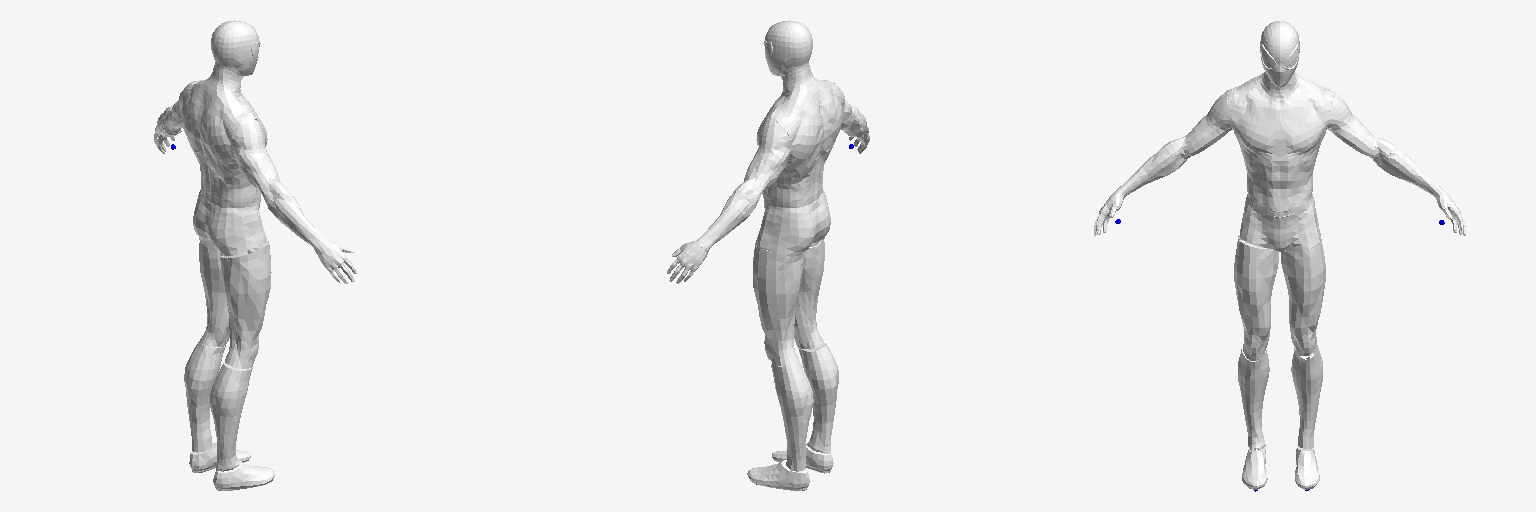
--- Facts derived from the render (not from the file) ---
Views: 3 orthographic renders of the robot side by side, from view 1: azimuth 30°, elevation 25°; view 2: azimuth 150°, elevation 25°; view 3: azimuth 270°, elevation 25°.
Robot: spiderman — 41 links, 40 joints (34 revolute, 6 fixed); root link base_link; default pose: all joints at 0.
Visible links, largest first — view 1: Thorax, RThigh, Pelvis, RShank, LShank, RHumerus, LThigh, Skull, RForearm, RFoot, RHand, LFoot (+1 smaller); view 2: Thorax, LThigh, Pelvis, LShank, RShank, LHumerus, RThigh, Skull, LForearm, LFoot, LHand, RFoot (+1 smaller); view 3: Thorax, RThigh, LThigh, Pelvis, LShank, RShank, Skull, RHumerus, LHumerus, RForearm, LForearm, RHand (+1 smaller).
Link boxes in pixels (bbox=[...]): Thorax: bbox=[180, 65, 267, 207]; RThigh: bbox=[220, 241, 271, 368]; Pelvis: bbox=[193, 190, 266, 256]; RShank: bbox=[210, 363, 252, 471]; LShank: bbox=[184, 341, 225, 452]; RHumerus: bbox=[232, 119, 288, 206]; LThigh: bbox=[199, 237, 229, 346]; Skull: bbox=[211, 20, 260, 76]; RForearm: bbox=[268, 190, 328, 255]; RFoot: bbox=[213, 461, 264, 490]; RHand: bbox=[318, 241, 357, 283]; LFoot: bbox=[189, 443, 239, 472]; Thorax: bbox=[756, 65, 843, 207]; LThigh: bbox=[753, 246, 803, 365]; Pelvis: bbox=[755, 190, 830, 256]; LShank: bbox=[771, 360, 813, 471]; RShank: bbox=[798, 343, 838, 453]; LHumerus: bbox=[735, 120, 791, 202]; RThigh: bbox=[794, 237, 824, 348]; Skull: bbox=[763, 20, 812, 75]; LForearm: bbox=[695, 190, 756, 252]; LFoot: bbox=[758, 460, 809, 490]; LHand: bbox=[667, 241, 707, 283]; RFoot: bbox=[783, 445, 833, 473]; Thorax: bbox=[1227, 72, 1334, 216]; RThigh: bbox=[1234, 235, 1278, 360]; LThigh: bbox=[1281, 239, 1325, 358]; Pelvis: bbox=[1240, 194, 1320, 251]; LShank: bbox=[1291, 348, 1322, 448]; RShank: bbox=[1238, 347, 1269, 450]; Skull: bbox=[1260, 21, 1299, 87]; RHumerus: bbox=[1165, 90, 1231, 167]; LHumerus: bbox=[1327, 93, 1394, 165]; RForearm: bbox=[1114, 145, 1178, 199]; LForearm: bbox=[1378, 145, 1445, 200]; RHand: bbox=[1094, 193, 1122, 235].
Bounding box of the posed robot: 0.3047 × 1.36 × 1.84 m (x, y, z).
Meshes: 17 distinct files referenced, 17 mesh visuals loaded (17 binary STL).

URDF robot description (spiderman):
<?xml version="1.0"?>
<!-- meshes from http://tf3dm.com/ -->
<robot name="spiderman">
  <material name="Blue"> <!-- for spheres -->
    <color rgba="0 0 1 0.5"/>
  </material>
  <material name="White"> <!-- for bones -->
    <color rgba="1 1 1 1"/>
  </material>
  <material name="Green"> <!-- for bones -->
    <color rgba="0 1 0.1 0.2"/>
  </material>

  <link name="base_link"/>
  <joint name="base_link_J" type="fixed">
      <parent link="base_link"/>
      <child link="Pelvis"/>
      <origin rpy="0 0 1.57079632" xyz="0 0 0"/>
   </joint>

  <link name="virtualPelvis"/> <!-- for Blender Armature export -->
  <joint name="virtualPelvis" type="fixed">
      <parent link="base_link"/>
      <child link="virtualPelvis"/>
      <origin rpy="0 0 0" xyz="0 0 0"/>
  </joint>

   <link name="Pelvis">
      <inertial>
         <origin rpy="0 0 0" xyz="0 0 0"/>
         <mass value="8.4552"/>
         <inertia ixx="0" ixy="0" ixz="0" iyy="0" iyz="0" izz="0"/>
      </inertial>
      <visual>
         <origin xyz="0 0 0" rpy="0 0 0"/>
         <geometry>
            <mesh filename="package://hpp-rbprm-corba/meshes/spiderman/spiderman-pelvis.stl"/>
         </geometry>
         <material name="White"/>
      </visual>
      <collision>
         <origin xyz="0 0 0" rpy="0 0 0"/>
         <geometry>
            <mesh filename="package://hpp-rbprm-corba/meshes/spiderman/spiderman-pelvis.stl"/>
         </geometry>
      </collision>
   </link>

 <!--<joint name="pelvis_rfoot_rom_joint" type="fixed">
      <parent link="Pelvis"/>
      <child link="pelvis_rfoot_rom"/>
      <origin rpy="0 0 0" xyz="0 0 0"/>
   </joint>
  <link name="pelvis_rfoot_rom">
      <visual>
         <origin xyz="0 0 0" rpy="0 0 0"/>
         <geometry>
            <mesh filename="package://hpp-rbprm-corba/meshes/spiderman/rfoot_rom.stl"/>
         </geometry>
         <material name="Green"/>
      </visual>
   </link>-->

  <!--<joint name="pelvis_lfoot_rom_joint" type="fixed">
      <parent link="Pelvis"/>
      <child link="pelvis_lfoot_rom"/>
      <origin rpy="0 0 0" xyz="0 0 0"/>
   </joint>
  <link name="pelvis_lfoot_rom">
      <visual>
         <origin xyz="0 0 0" rpy="0 0 0"/>
         <geometry>
            <mesh filename="package://hpp-rbprm-corba/meshes/spiderman/lfoot_rom.stl"/>
         </geometry>
         <material name="Green"/>
      </visual>
   </link>-->

   <link name="Thorax_rx"/>
   <link name="Thorax_ry"/>
   <link name="Thorax">
      <inertial>
         <origin rpy="0 0 0" xyz="0 0 0"/>
         <mass value="19.8372"/>
         <inertia ixx="-0.16485" ixy="0.25777" ixz="0.0015499" iyy="0.20309" iyz="-0.0061998" izz="-0.18263"/>
      </inertial>
      <visual>
         <origin xyz="0 0 0" rpy="0 0 0"/>
         <geometry>
            <mesh filename="package://hpp-rbprm-corba/meshes/spiderman/spiderman-thorax.stl"/>
         </geometry>
         <material name="White"/>
      </visual>
      <collision>
         <origin xyz="0 0 0" rpy="0 0 0"/>
         <geometry>
            <mesh filename="package://hpp-rbprm-corba/meshes/spiderman/spiderman-thorax.stl"/>
         </geometry>
      </collision>
   </link>

  <!--<joint name="thorax_rhand_rom_joint" type="fixed">
      <parent link="Thorax"/>
      <child link="thorax_rhand_rom"/>
      <origin rpy="0 0 0" xyz="0 0 0"/>
   </joint>
  <link name="thorax_rhand_rom">
      <visual>
         <origin xyz="0 0 0" rpy="0 0 0"/>
         <geometry>
            <mesh filename="package://hpp-rbprm-corba/meshes/spiderman/rhand_rom.stl"/>
         </geometry>
         <material name="Green"/>
      </visual>
   </link>-->

  <!--<joint name="thorax_lhand_rom_joint" type="fixed">
      <parent link="Thorax"/>
      <child link="thorax_lhand_rom"/>
      <origin rpy="0 0 0" xyz="0 0 0"/>
   </joint>
  <link name="thorax_lhand_rom">
      <visual>
         <origin xyz="0 0 0" rpy="0 0 0"/>
         <geometry>
            <mesh filename="package://hpp-rbprm-corba/meshes/spiderman/lhand_rom.stl"/>
         </geometry>
         <material name="Green"/>
      </visual>
   </link>-->

   <link name="Skull_rx"/>
   <link name="Skull_ry"/>
   <link name="Skull">
      <inertial>
         <origin rpy="0 0 0" xyz="0 0 0"/>
         <mass value="4.2276"/>
         <inertia ixx="0.0071027" ixy="-0.00059867" ixz="-2.9564e-05" iyy="0.0046194" iyz="6.6519e-05" izz="0.0080488"/>
      </inertial>
      <visual>
         <origin xyz="0 0 0" rpy="0 0 0"/>
         <geometry>
            <mesh filename="package://hpp-rbprm-corba/meshes/spiderman/spiderman-skull.stl"/>
         </geometry>
         <material name="White"/>
      </visual>
      <collision>
         <origin xyz="0 0 0" rpy="0 0 0"/>
         <geometry>
            <mesh filename="package://hpp-rbprm-corba/meshes/spiderman/spiderman-skull.stl"/>
         </geometry>
      </collision>
   </link>
   <link name="RThigh_rx"/>
   <link name="RThigh_ry"/>
   <link name="RThigh">
      <inertial>
         <origin rpy="0 0 0" xyz="0 0 0"/>
         <mass value="7.3797"/>
         <inertia ixx="0.11501" ixy="0.0067008" ixz="-0.000547" iyy="0.030769" iyz="-0.0067008" izz="0.12308"/>
      </inertial>
      <visual>
         <origin xyz="0 0 0" rpy="0 0 0"/>
         <geometry>
            <mesh filename="package://hpp-rbprm-corba/meshes/spiderman/spiderman-RThigh.stl"/>
         </geometry>
         <material name="White"/>
      </visual>
      <collision>
         <origin xyz="0 0 0" rpy="0 0 0"/>
         <geometry>
            <mesh filename="package://hpp-rbprm-corba/meshes/spiderman/spiderman-RThigh.stl"/>
         </geometry>
      </collision>
   </link>
   <link name="RShank">
      <inertial>
         <origin rpy="0 0 0" xyz="0 0 0"/>
         <mass value="2.8801"/>
         <inertia ixx="0.042617" ixy="-0.00086974" ixz="-0.00021743" iyy="0.0054359" iyz="0.001359" izz="0.042617"/>
      </inertial>
      <visual>
         <origin xyz="0 0 0" rpy="0 0 0"/>
         <geometry>
            <mesh filename="package://hpp-rbprm-corba/meshes/spiderman/spiderman-RShank.stl"/>
         </geometry>
         <material name="White"/>
      </visual>
      <collision>
         <origin xyz="0 0 0" rpy="0 0 0"/>
         <geometry>
            <mesh filename="package://hpp-rbprm-corba/meshes/spiderman/spiderman-RShank.stl"/>
         </geometry>
      </collision>
   </link>
   <link name="RFoot_rx"/>
   <link name="RFoot">
      <inertial>
         <origin rpy="0 0 0" xyz="0 0 0"/>
         <mass value="0.72029"/>
         <inertia ixx="0.0035454" ixy="0.00043767" ixz="0" iyy="0.00074844" iyz="-0.00016575" izz="0.0033563"/>
      </inertial>
      <visual>
         <origin xyz="0 0 0" rpy="0 0 0"/>
         <geometry>
            <mesh filename="package://hpp-rbprm-corba/meshes/spiderman/spiderman-RFoot.stl"/>
         </geometry>
         <material name="White"/>
      </visual>
      <collision>
         <origin xyz="0 0 0" rpy="0 0 0"/>
         <geometry>
            <mesh filename="package://hpp-rbprm-corba/meshes/spiderman/spiderman-RFoot.stl"/>
         </geometry>
      </collision>
   </link>
   <link name="RFootToe">
      <inertial>
         <origin rpy="0 0 0" xyz="0 0 0"/>
         <mass value="0.72029"/>
         <inertia ixx="0.0035454" ixy="0.00043767" ixz="0" iyy="0.00074844" iyz="-0.00016575" izz="0.0033563"/>
      </inertial>
      <visual>
         <origin xyz="0 0 0" rpy="0 0 0"/>
         <geometry>
            <mesh filename="package://hpp-rbprm-corba/meshes/spiderman/spiderman-RFootToe.stl"/>
         </geometry>
         <material name="White"/>
      </visual>
      <collision>
         <origin xyz="0 0 0" rpy="0 0 0"/>
         <geometry>
            <mesh filename="package://hpp-rbprm-corba/meshes/spiderman/spiderman-RFootToe.stl"/>
         </geometry>
      </collision>
   </link>
  <link name="SpidermanRFootSphere">
      <visual>
         <origin xyz="0 0 0" rpy="0 0 0"/>
         <geometry>
            <sphere radius="0.01"/>
         </geometry>
         <material name="Blue"/>
      </visual>
   </link>
   <link name="LThigh_rx"/>
   <link name="LThigh_ry"/>
   <link name="LThigh">
      <inertial>
         <origin rpy="0 0 0" xyz="0 0 0"/>
         <mass value="7.3797"/>
         <inertia ixx="0.11501" ixy="0.0067008" ixz="-0.000547" iyy="0.030769" iyz="-0.0067008" izz="0.12308"/>
      </inertial>
      <visual>
         <origin xyz="0 0 0" rpy="0 0 0"/>
         <geometry>
            <mesh filename="package://hpp-rbprm-corba/meshes/spiderman/spiderman-LThigh.stl"/>
         </geometry>
         <material name="White"/>
      </visual>
      <collision>
         <origin xyz="0 0 0" rpy="0 0 0"/>
         <geometry>
            <mesh filename="package://hpp-rbprm-corba/meshes/spiderman/spiderman-LThigh.stl"/>
         </geometry>
      </collision>
   </link>
   <link name="LShank">
      <inertial>
         <origin rpy="0 0 0" xyz="0 0 0"/>
         <mass value="2.8801"/>
         <inertia ixx="0.042617" ixy="-0.00086974" ixz="-0.00021743" iyy="0.0054359" iyz="0.001359" izz="0.042617"/>
      </inertial>
      <visual>
         <origin xyz="0 0 0" rpy="0 0 0"/>
         <geometry>
            <mesh filename="package://hpp-rbprm-corba/meshes/spiderman/spiderman-LShank.stl"/>
         </geometry>
         <material name="White"/>
      </visual>
      <collision>
         <origin xyz="0 0 0" rpy="0 0 0"/>
         <geometry>
            <mesh filename="package://hpp-rbprm-corba/meshes/spiderman/spiderman-LShank.stl"/>
         </geometry>
      </collision>
   </link>
   <link name="LFoot_rx"/>
   <link name="LFoot">
      <inertial>
         <origin rpy="0 0 0" xyz="0 0 0"/>
         <mass value="0.72029"/>
         <inertia ixx="0.0035454" ixy="0.00043767" ixz="0" iyy="0.00074844" iyz="-0.00016575" izz="0.0033563"/>
      </inertial>
      <visual>
         <origin xyz="0 0 0" rpy="0 0 0"/>
         <geometry>
            <mesh filename="package://hpp-rbprm-corba/meshes/spiderman/spiderman-LFoot.stl"/>
         </geometry>
         <material name="White"/>
      </visual>
      <collision>
         <origin xyz="0 0 0" rpy="0 0 0"/>
         <geometry>
            <mesh filename="package://hpp-rbprm-corba/meshes/spiderman/spiderman-LFoot.stl"/>
         </geometry>
      </collision>
   </link>
   <link name="LFootToe">
      <inertial>
         <origin rpy="0 0 0" xyz="0 0 0"/>
         <mass value="0.72029"/>
         <inertia ixx="0.0035454" ixy="0.00043767" ixz="0" iyy="0.00074844" iyz="-0.00016575" izz="0.0033563"/>
      </inertial>
      <visual>
         <origin xyz="0 0 0" rpy="0 0 0"/>
         <geometry>
            <mesh filename="package://hpp-rbprm-corba/meshes/spiderman/spiderman-LFootToe.stl"/>
         </geometry>
         <material name="White"/>
      </visual>
      <collision>
         <origin xyz="0 0 0" rpy="0 0 0"/>
         <geometry>
            <mesh filename="package://hpp-rbprm-corba/meshes/spiderman/spiderman-LFootToe.stl"/>
         </geometry>
      </collision>
   </link>
  <link name="SpidermanLFootSphere">
      <visual>
         <origin xyz="0 0 0" rpy="0 0 0"/>
         <geometry>
            <sphere radius="0.01"/>
         </geometry>
         <material name="Blue"/>
      </visual>
   </link>
   <link name="RHumerus_rx"/>
   <link name="RHumerus_ry"/>
   <link name="RHumerus">
      <inertial>
         <origin rpy="0 0 0" xyz="0 0 0"/>
         <mass value="1.4399"/>
         <inertia ixx="-0.022156" ixy="0.00051827" ixz="0.00035991" iyy="0.0028217" iyz="5.7586e-05" izz="-0.021249"/>
      </inertial>
      <visual>
         <origin xyz="0 0 0" rpy="0 0 0"/>
         <geometry>
            <mesh filename="package://hpp-rbprm-corba/meshes/spiderman/spiderman-RHumerus.stl"/>
         </geometry>
         <material name="White"/>
      </visual>
      <collision>
         <origin xyz="0 0 0" rpy="0 0 0"/>
         <geometry>
            <mesh filename="package://hpp-rbprm-corba/meshes/spiderman/spiderman-RHumerus.stl"/>
         </geometry>
      </collision>
   </link>
   <link name="RForearm_rx"/>
   <link name="RForearm">
      <inertial>
         <origin rpy="0 0 0" xyz="0 0 0"/>
         <mass value="1.02"/>
         <inertia ixx="-0.0082187" ixy="5.6551e-05" ixz="2.5134e-05" iyy="0.0007603" iyz="-0.00040214" izz="-0.0085643"/>
      </inertial>
      <visual>
         <origin xyz="0 0 0" rpy="0 0 0"/>
         <geometry>
            <mesh filename="package://hpp-rbprm-corba/meshes/spiderman/spiderman-RForearm.stl"/>
         </geometry>
         <material name="White"/>
      </visual>
      <collision>
         <origin xyz="0 0 0" rpy="0 0 0"/>
         <geometry>
            <mesh filename="package://hpp-rbprm-corba/meshes/spiderman/spiderman-RForearm.stl"/>
         </geometry>
      </collision>
   </link>
   <link name="RHand_rx"/>
   <link name="RHand">
      <inertial>
         <origin rpy="0 0 0" xyz="0 0 0"/>
         <mass value="0.36011"/>
         <inertia ixx="0.0036215" ixy="0.00058753" ixz="0.00027313" iyy="0.0017529" iyz="-0.00048556" izz="0.0029113"/>
      </inertial>
      <visual>
         <origin xyz="0 0 0" rpy="0 0 0"/>
         <geometry>
            <mesh filename="package://hpp-rbprm-corba/meshes/spiderman/spiderman-RHand.stl"/>
         </geometry>
         <material name="White"/>
      </visual>
      <collision>
         <origin xyz="0 0 0" rpy="0 0 0"/>
         <geometry>
            <mesh filename="package://hpp-rbprm-corba/meshes/spiderman/spiderman-RHand.stl"/>
         </geometry>
      </collision>
   </link>
  <link name="SpidermanRHandSphere">
      <visual>
         <origin xyz="0 0 0" rpy="0 0 0"/>
         <geometry>
            <sphere radius = "0.01"/>
         </geometry>
         <material name="Blue"/>
      </visual>
   </link>

   <link name="LHumerus_rx"/>
   <link name="LHumerus_ry"/>
   <link name="LHumerus">
      <inertial>
         <origin rpy="0 0 0" xyz="0 0 0"/>
         <mass value="1.4399"/>
         <inertia ixx="-0.022156" ixy="0.00051827" ixz="0.00035991" iyy="0.0028217" iyz="5.7586e-05" izz="-0.021249"/>
      </inertial>
      <visual>
         <origin xyz="0 0 0" rpy="0 0 0"/>
         <geometry>
            <mesh filename="package://hpp-rbprm-corba/meshes/spiderman/spiderman-LHumerus.stl"/>
         </geometry>
         <material name="White"/>
      </visual>
      <collision>
         <origin xyz="0 0 0" rpy="0 0 0"/>
         <geometry>
            <mesh filename="package://hpp-rbprm-corba/meshes/spiderman/spiderman-LHumerus.stl"/>
         </geometry>
      </collision>
   </link>
   <link name="LForearm_rx"/>
   <link name="LForearm">
      <inertial>
         <origin rpy="0 0 0" xyz="0 -0.11352 0"/>
         <mass value="1.02"/>
         <inertia ixx="-0.0082187" ixy="5.6551e-05" ixz="2.5134e-05" iyy="0.0007603" iyz="-0.00040214" izz="-0.0085643"/>
      </inertial>
      <visual>
         <origin xyz="0 0 0" rpy="0 0 0"/>
         <geometry>
            <mesh filename="package://hpp-rbprm-corba/meshes/spiderman/spiderman-LForearm.stl"/>
         </geometry>
         <material name="White"/>
      </visual>
      <collision>
         <origin xyz="0 0 0" rpy="0 0 0"/>
         <geometry>
            <mesh filename="package://hpp-rbprm-corba/meshes/spiderman/spiderman-LForearm.stl"/>
         </geometry>
      </collision>
   </link>
   <link name="LHand_rx"/>
   <link name="LHand">
      <inertial>
         <origin rpy="0 0 0" xyz="0 0 0"/>
         <mass value="0.36011"/>
         <inertia ixx="0.0036215" ixy="0.00058753" ixz="0.00027313" iyy="0.0017529" iyz="-0.00048556" izz="0.0029113"/>
      </inertial>
      <visual>
         <origin xyz="0 0 0" rpy="0 0 0"/>
         <geometry>
            <mesh filename="package://hpp-rbprm-corba/meshes/spiderman/spiderman-LHand.stl"/>
         </geometry>
         <material name="White"/>
      </visual>
      <collision>
         <origin xyz="0 0 0" rpy="0 0 0"/>
         <geometry>
            <mesh filename="package://hpp-rbprm-corba/meshes/spiderman/spiderman-LHand.stl"/>
         </geometry>
      </collision>
   </link>
  <link name="SpidermanLHandSphere">
      <visual>
         <origin xyz="0 0 0" rpy="0 0 0"/>
         <geometry>
            <sphere radius="0.01"/>
         </geometry>
         <material name="Blue"/>
      </visual>
   </link>

  <joint name="A_Thorax_rx" type="revolute"> <!-- A_ added for order while parsing with ROS -->
      <parent link="Pelvis"/>
      <child link="Thorax_rx"/>
      <origin rpy="0 0 0" xyz="0.0006 -0.0373 0.0788"/>
      <axis xyz="1 0 0"/>
      <limit effort="0" lower="-0.8" upper="0.8" velocity="1.0"/>
   </joint>
   <joint name="Thorax_ry" type="revolute">
      <parent link="Thorax_rx"/>
      <child link="Thorax_ry"/>
      <origin rpy="0 0 0" xyz="0 0 0"/>
      <axis xyz="0 1 0"/>
      <limit effort="0" lower="-1" upper="1" velocity="1.0"/>
   </joint>
   <joint name="Thorax_rz" type="revolute">
      <parent link="Thorax_ry"/>
      <child link="Thorax"/>
      <origin rpy="0 0 0" xyz="0 0 0"/>
      <axis xyz="0 0 1"/>
      <limit effort="0" lower="-1.5" upper="1.5" velocity="1.0"/>
   </joint>
   <joint name="A_Skull_rx" type="revolute"> <!-- A_ added for order while parsing with ROS -->
      <parent link="Thorax"/>
      <child link="Skull_rx"/>
      <origin rpy="0 0 0" xyz="-0.0006 0.0160 0.5204"/>
      <axis xyz="1 0 0"/>
      <limit effort="0" lower="-1.1" upper="0.6" velocity="1.0"/>
   </joint>
   <joint name="Skull_ry" type="revolute">
      <parent link="Skull_rx"/>
      <child link="Skull_ry"/>
      <origin rpy="0 0 0" xyz="0 0 0"/>
      <axis xyz="0 1 0"/>
      <limit effort="0" lower="-0.3" upper="0.3" velocity="1.0"/>
   </joint>
   <joint name="Skull_rz" type="revolute">
      <parent link="Skull_ry"/>
      <child link="Skull"/>
      <origin rpy="0 0 0" xyz="0 0 0"/>
      <axis xyz="0 0 1"/>
      <limit effort="0" lower="-1.4" upper="1." velocity="1.0"/>
   </joint>
   <joint name="RThigh_rx" type="revolute">
      <parent link="Pelvis"/>
      <child link="RThigh_rx"/>
      <origin rpy="0 0 0" xyz="-0.0943 -0.0367 -0.0844"/>
      <axis xyz="1 0 0"/>
      <limit effort="0" lower="-2.5" upper="0.7" velocity="1.0"/>
   </joint>
   <joint name="RThigh_ry" type="revolute">
      <parent link="RThigh_rx"/>
      <child link="RThigh_ry"/>
      <origin rpy="0 0 0" xyz="0 0 0"/>
      <axis xyz="0 1 0"/>
      <limit effort="0" lower="-0.3" upper="0.9" velocity="1.0"/>
   </joint>
   <joint name="RThigh_rz" type="revolute">
      <parent link="RThigh_ry"/>
      <child link="RThigh"/>
      <origin rpy="0 0 0" xyz="0 0 0"/>
      <axis xyz="0 0 1"/>
      <limit effort="0" lower="-0.5" upper="0.2" velocity="1.0"/>
   </joint>
   <joint name="RShank_rx" type="revolute">
      <parent link="RThigh"/>
      <child link="RShank"/>
      <origin rpy="0 0 0" xyz="0.0012 0.0385 -0.4586"/>
      <axis xyz="1 0 0"/>
      <limit effort="0" lower="-0.05" upper="1.9" velocity="1.0"/>
   </joint>
   <joint name="RFoot_rx" type="revolute">
      <parent link="RShank"/>
      <child link="RFoot_rx"/>
      <origin rpy="0 0 0" xyz="0.0070 0.0310 -0.4016"/>
      <axis xyz="1 0 0"/>
      <limit effort="0" lower="-0.6" upper="1.1" velocity="1.0"/>
   </joint>
   <joint name="RFoot_rz" type="revolute">
      <parent link="RFoot_rx"/>
      <child link="RFoot"/>
      <origin rpy="0 0 0" xyz="0 0 0"/>
      <axis xyz="0 0 1"/>
      <limit effort="0" lower="-0.6" upper="0.6" velocity="1.0"/>
   </joint>
   <joint name="RFootToe_rx" type="revolute">
      <parent link="RFoot"/>
      <child link="RFootToe"/>
      <origin rpy="0 0 0" xyz="-0.0047 -0.1259 -0.0639"/>
      <axis xyz="1 0 0"/>
      <limit effort="0" lower="-0.7" upper="0.2" velocity="1.0"/>
   </joint>
  <joint name="SpidermanRFootSphere" type="fixed">
      <parent link="RFootToe"/>
      <child link="SpidermanRFootSphere"/>
      <origin rpy="0 0 0" xyz="0.0022 -0.0229 -0.0306"/>
   </joint>
   <joint name="LThigh_rx" type="revolute">
      <parent link="Pelvis"/>
      <child link="LThigh_rx"/>
      <origin rpy="0 0 0" xyz="0.0908 -0.0355 -0.0850"/>
      <axis xyz="1 0 0"/>
      <limit effort="0" lower="-2.5" upper="0.7" velocity="1.0"/>
   </joint>
   <joint name="LThigh_ry" type="revolute">
      <parent link="LThigh_rx"/>
      <child link="LThigh_ry"/>
      <origin rpy="0 0 0" xyz="0 0 0"/>
      <axis xyz="0 1 0"/>
      <limit effort="0" lower="-0.9" upper="0.3" velocity="1.0"/>
   </joint>
   <joint name="LThigh_rz" type="revolute">
      <parent link="LThigh_ry"/>
      <child link="LThigh"/>
      <origin rpy="0 0 0" xyz="0 0 0"/>
      <axis xyz="0 0 1"/>
      <limit effort="0" lower="-0.2" upper="0.5" velocity="1.0"/>
   </joint>
   <joint name="LShank_rx" type="revolute">
      <parent link="LThigh"/>
      <child link="LShank"/>
      <origin rpy="0 0 0" xyz="0 0.0308 -0.4471"/>
      <axis xyz="1 0 0"/>
      <limit effort="0" lower="-0.05" upper="1.9" velocity="1.0"/>
   </joint>
   <joint name="LFoot_rx" type="revolute">
      <parent link="LShank"/>
      <child link="LFoot_rx"/>
      <origin rpy="0 0 0" xyz="0.0026 0.0393 -0.4117"/>
      <axis xyz="1 0 0"/>
      <limit effort="0" lower="-0.6" upper="1.1" velocity="1.0"/>
   </joint>
   <joint name="LFoot_rz" type="revolute">
      <parent link="LFoot_rx"/>
      <child link="LFoot"/>
      <origin rpy="0 0 0" xyz="0 0 0"/>
      <axis xyz="0 0 1"/>
      <limit effort="0" lower="-0.6" upper="0.6" velocity="1.0"/>
   </joint>
   <joint name="LFootToe_rx" type="revolute">
      <parent link="LFoot"/>
      <child link="LFootToe"/>
      <origin rpy="0 0 0" xyz="0.0052 -0.1277 -0.0646"/>
      <axis xyz="1 0 0"/>
      <limit effort="0" lower="-0.7" upper="0.2" velocity="1.0"/>
   </joint>
  <joint name="SpidermanLFootSphere" type="fixed">
      <parent link="LFootToe"/>
      <child link="SpidermanLFootSphere"/>
      <origin rpy="0 0 0" xyz="-0.0001 -0.0229 -0.0306"/>
   </joint>
   <joint name="RHumerus_rx" type="revolute">
      <parent link="Thorax"/>
      <child link="RHumerus_rx"/>
      <origin rpy="0 0 0" xyz="-0.1938 0.0528 0.3355"/>
      <axis xyz="1 0 0"/>
      <limit effort="0" lower="-2.9" upper="0.7" velocity="1.0"/>
   </joint>
   <joint name="RHumerus_ry" type="revolute">
      <parent link="RHumerus_rx"/>
      <child link="RHumerus_ry"/>
      <origin rpy="0 0 0" xyz="0 0 0"/>
      <axis xyz="0 1 0"/>
      <limit effort="0" lower="-0.7" upper="2.4" velocity="1.0"/>
   </joint>
   <joint name="RHumerus_rz" type="revolute">
      <parent link="RHumerus_ry"/>
      <child link="RHumerus"/>
      <origin rpy="0 0 0" xyz="0 0 0"/>
      <axis xyz="0 0 1"/>
      <limit effort="0" lower="-1.4" upper="2.1" velocity="1.0"/>
   </joint>
   <joint name="RForearm_rx" type="revolute">
      <parent link="RHumerus"/>
      <child link="RForearm_rx"/>
      <origin rpy="0 0 0" xyz="-0.2007 -0.0213 -0.1671"/>
      <axis xyz="1 0 0"/>
      <limit effort="0" lower="-0.1" upper="2.9" velocity="1.0"/>
   </joint>
   <joint name="RForearm_rz" type="revolute">
      <parent link="RForearm_rx"/>
      <child link="RForearm"/>
      <origin rpy="0 0 0" xyz="0 0 0"/>
      <axis xyz="0 0 1"/>
      <limit effort="0" lower="-3.3" upper="0.6" velocity="1.0"/>
   </joint>
   <joint name="RHand_rx" type="revolute">
      <parent link="RForearm"/>
      <child link="RHand_rx"/>
      <origin rpy="0 0 0" xyz="-0.1949 -0.0716 -0.1326"/>
      <axis xyz="1 0 0"/>
      <limit effort="0" lower="-1.6" upper="1.4" velocity="1.0"/>
   </joint>
   <joint name="RHand_ry" type="revolute">
      <parent link="RHand_rx"/>
      <child link="RHand"/>
      <origin rpy="0 0 0" xyz="0 0 0"/>
      <axis xyz="0 1 0"/>
      <limit effort="0" lower="-0.6" upper="0.5" velocity="1.0"/>
   </joint>
  <joint name="SpidermanRHandSphere" type="fixed">
      <parent link="RHand"/>
      <child link="SpidermanRHandSphere"/>
      <origin rpy="0 0.2 -0.2" xyz="0 -0.0434 -0.08"/>
   </joint>
   <joint name="LHumerus_rx" type="revolute">
      <parent link="Thorax"/>
      <child link="LHumerus_rx"/>
      <origin rpy="0 0 0" xyz="0.1813 0.0529 0.3280"/>
      <axis xyz="1 0 0"/>
      <limit effort="0" lower="-2.9" upper="0.7" velocity="1.0"/>
   </joint>
   <joint name="LHumerus_ry" type="revolute">
      <parent link="LHumerus_rx"/>
      <child link="LHumerus_ry"/>
      <origin rpy="0 0 0" xyz="0 0 0"/>
      <axis xyz="0 1 0"/>
      <limit effort="0" lower="-2.4" upper="0.7" velocity="1.0"/>
   </joint>
   <joint name="LHumerus_rz" type="revolute">
      <parent link="LHumerus_ry"/>
      <child link="LHumerus"/>
      <origin rpy="0 0 0" xyz="0 0 0"/>
      <axis xyz="0 0 1"/>
      <limit effort="0" lower="-2.1" upper="1.4" velocity="1.0"/>
   </joint>
   <joint name="LForearm_rx" type="revolute">
      <parent link="LHumerus"/>
      <child link="LForearm_rx"/>
      <origin rpy="0 0 0" xyz="0.2086 -0.0205 -0.1575"/>
      <axis xyz="1 0 0"/>
      <limit effort="0" lower="-2.9" upper="0.1" velocity="1.0"/>
   </joint>
   <joint name="LForearm_rz" type="revolute">
      <parent link="LForearm_rx"/>
      <child link="LForearm"/>
      <origin rpy="0 0 0" xyz="0 0 0"/>
      <axis xyz="0 0 1"/>
      <limit effort="0" lower="-3.3" upper="0.6" velocity="1.0"/>
   </joint>
   <joint name="LHand_rx" type="revolute">
      <parent link="LForearm"/>
      <child link="LHand_rx"/>
      <origin rpy="0 0 0" xyz="0.1986 -0.0758 -0.1368"/>
      <axis xyz="1 0 0"/>
      <limit effort="0" lower="-1.6" upper="1.4" velocity="1.0"/>
   </joint>
   <joint name="LHand_ry" type="revolute">
      <parent link="LHand_rx"/>
      <child link="LHand"/>
      <origin rpy="0 0 0" xyz="0 0 0"/>
      <axis xyz="0 1 0"/>
      <limit effort="0" lower="-0.5" upper="0.6" velocity="1.0"/>
   </joint>
  <joint name="SpidermanLHandSphere" type="fixed">
      <parent link="LHand"/>
      <child link="SpidermanLHandSphere"/>
      <origin rpy="0 0.2 3.3415" xyz="0 -0.0434 -0.08"/>
   </joint>
</robot>
